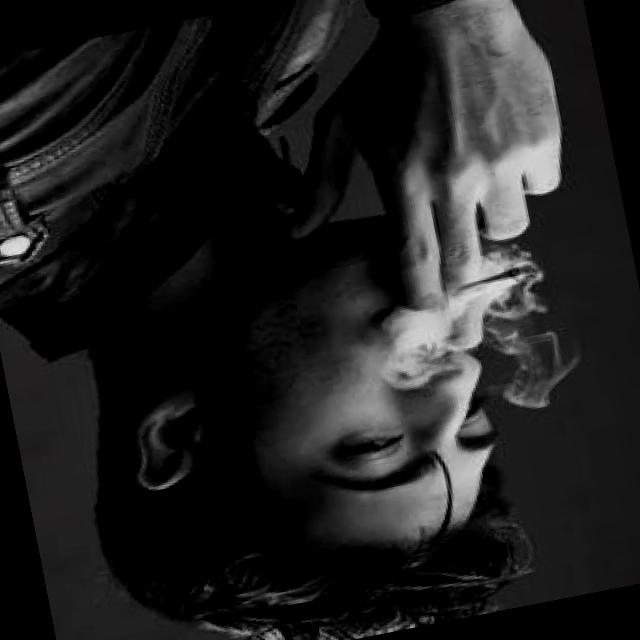smoke: (445, 253, 546, 308)
